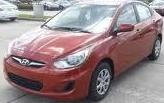front_view: (4, 39, 95, 100)
headlight: (55, 47, 92, 71)
side_glass: (109, 4, 153, 36)
